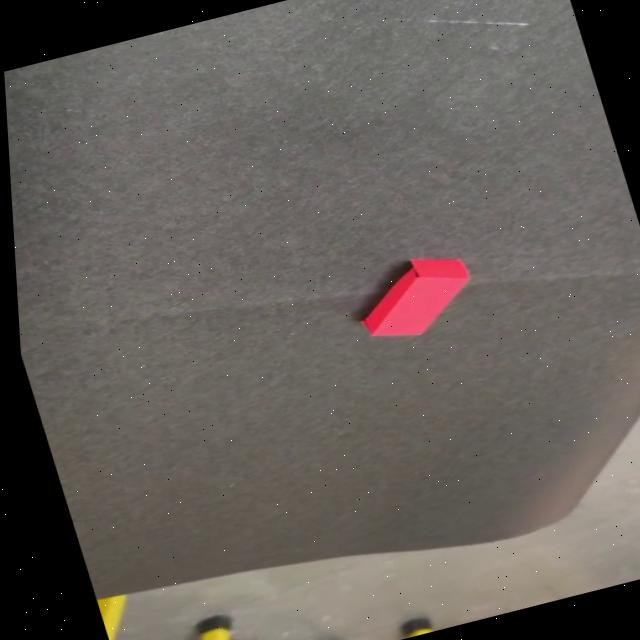red block: (341, 246, 484, 348)
